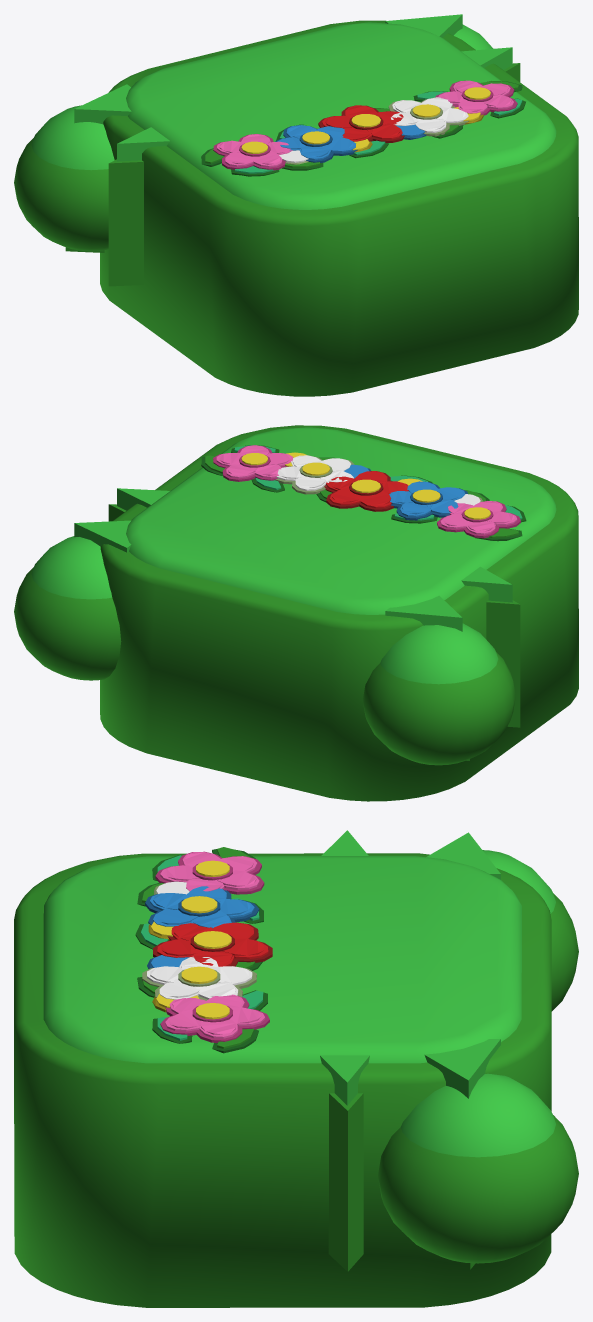
File: body_coroa_flores.fbx
3 views of the same model, one above another, from view 1: azimuth 30°, elevation 25°; view 2: azimuth 150°, elevation 25°; view 3: azimuth 270°, elevation 25° (orthographic). The views are drawn at different scales.
Visible parts, largest first — view 1: body_coroa_flores_corpo, body_coroa_flores_mao_esq, body_coroa_flores_mao; view 2: body_coroa_flores_corpo, body_coroa_flores_mao_esq, body_coroa_flores_mao; view 3: body_coroa_flores_corpo, body_coroa_flores_mao, body_coroa_flores_mao_esq.
Boxes of the visible parts, bbox=[...] form: body_coroa_flores_corpo: bbox=[65, 14, 578, 396]; body_coroa_flores_mao_esq: bbox=[14, 105, 114, 251]; body_coroa_flores_mao: bbox=[454, 24, 493, 50]; body_coroa_flores_corpo: bbox=[74, 425, 578, 801]; body_coroa_flores_mao_esq: bbox=[362, 623, 515, 765]; body_coroa_flores_mao: bbox=[14, 536, 121, 680]; body_coroa_flores_corpo: bbox=[14, 830, 551, 1307]; body_coroa_flores_mao: bbox=[378, 1073, 578, 1263]; body_coroa_flores_mao_esq: bbox=[482, 850, 578, 1011].
Size of the model in its own units: 5.4 by 2.09 by 4.2.
Materials: 1 (1 with a texture image).
